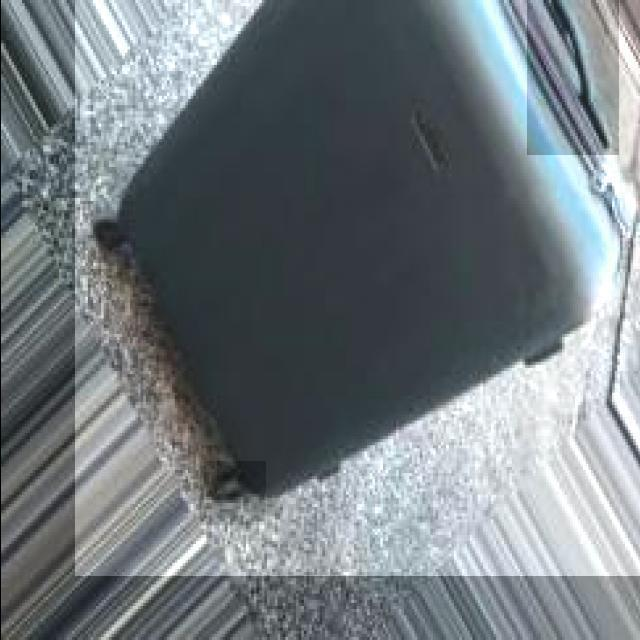Suitcase: (75, 1, 627, 524)
